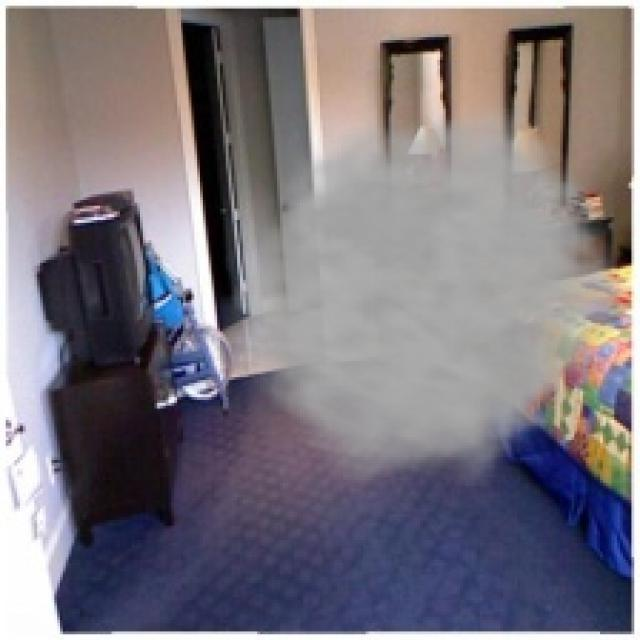Smoke: (212, 91, 637, 486)
